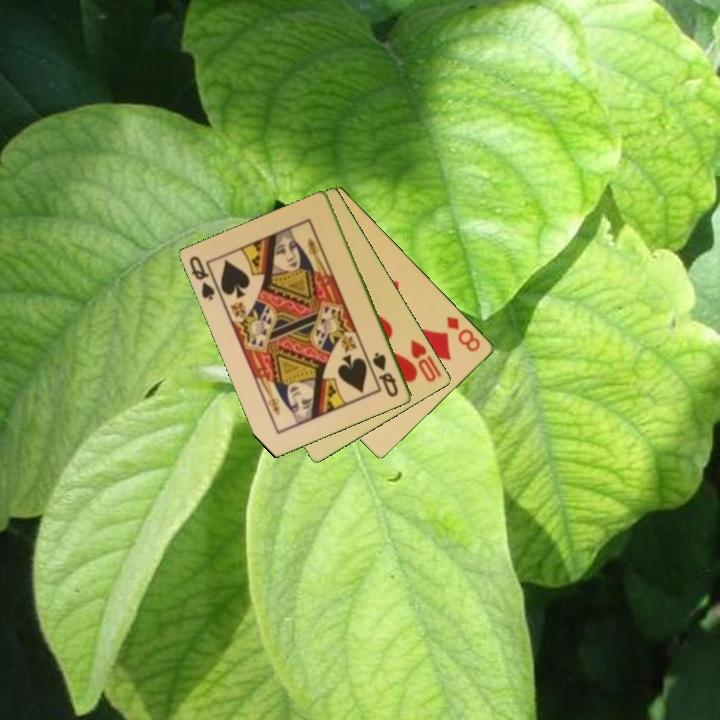10h: (407, 336, 445, 385)
8d: (443, 313, 483, 355)
Qs: (369, 349, 402, 400), (186, 253, 218, 303)
